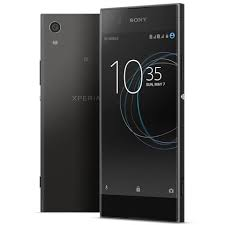sony: (98, 4, 187, 223), (38, 11, 100, 214)
